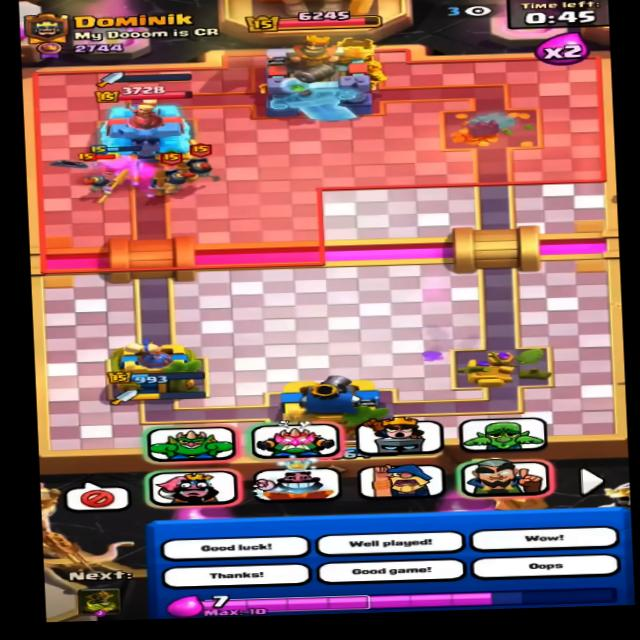Guards: (159, 166, 200, 197), (82, 166, 118, 197), (178, 153, 214, 183)
